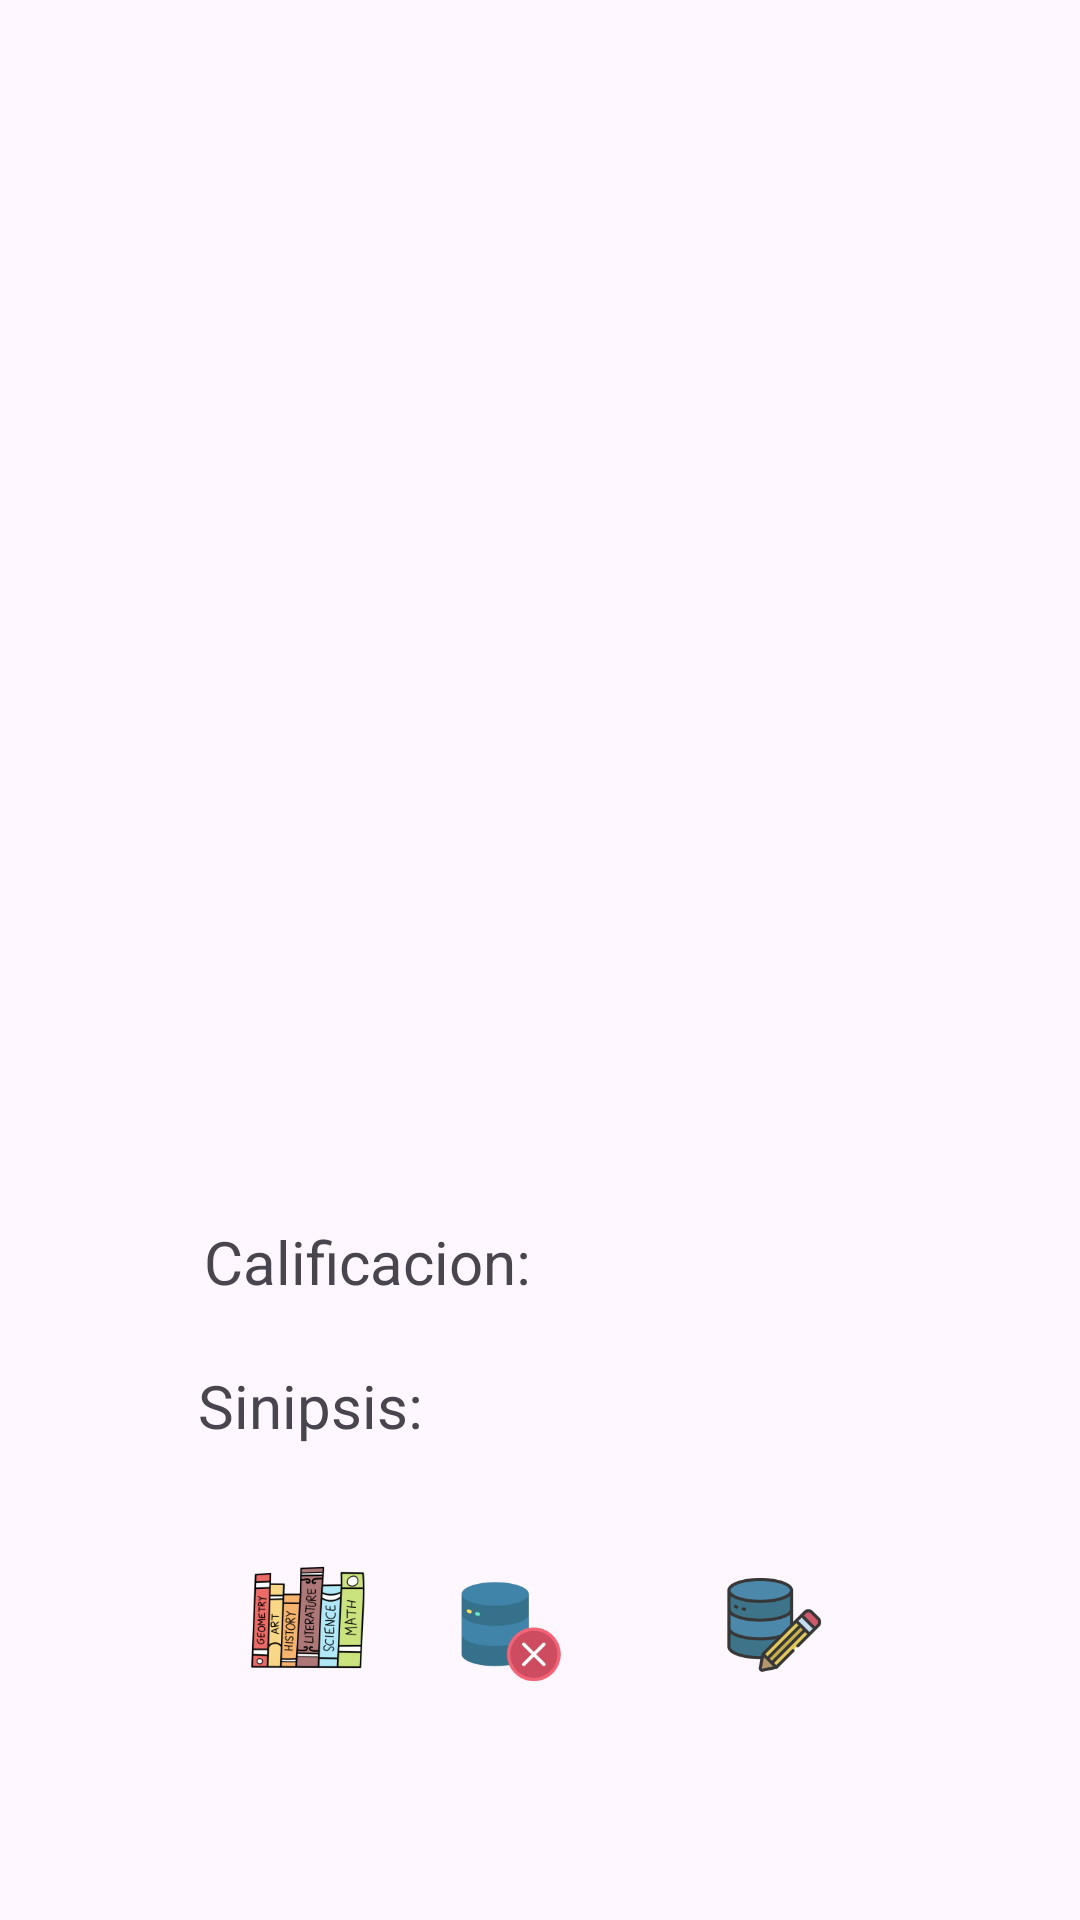

Where to tap for icons on this 1080 x 1920 app screen, as (x=x, y=y):
editar datos: (x=774, y=1625)
eliminar datos: (x=511, y=1631)
ver generos: (x=308, y=1617)
